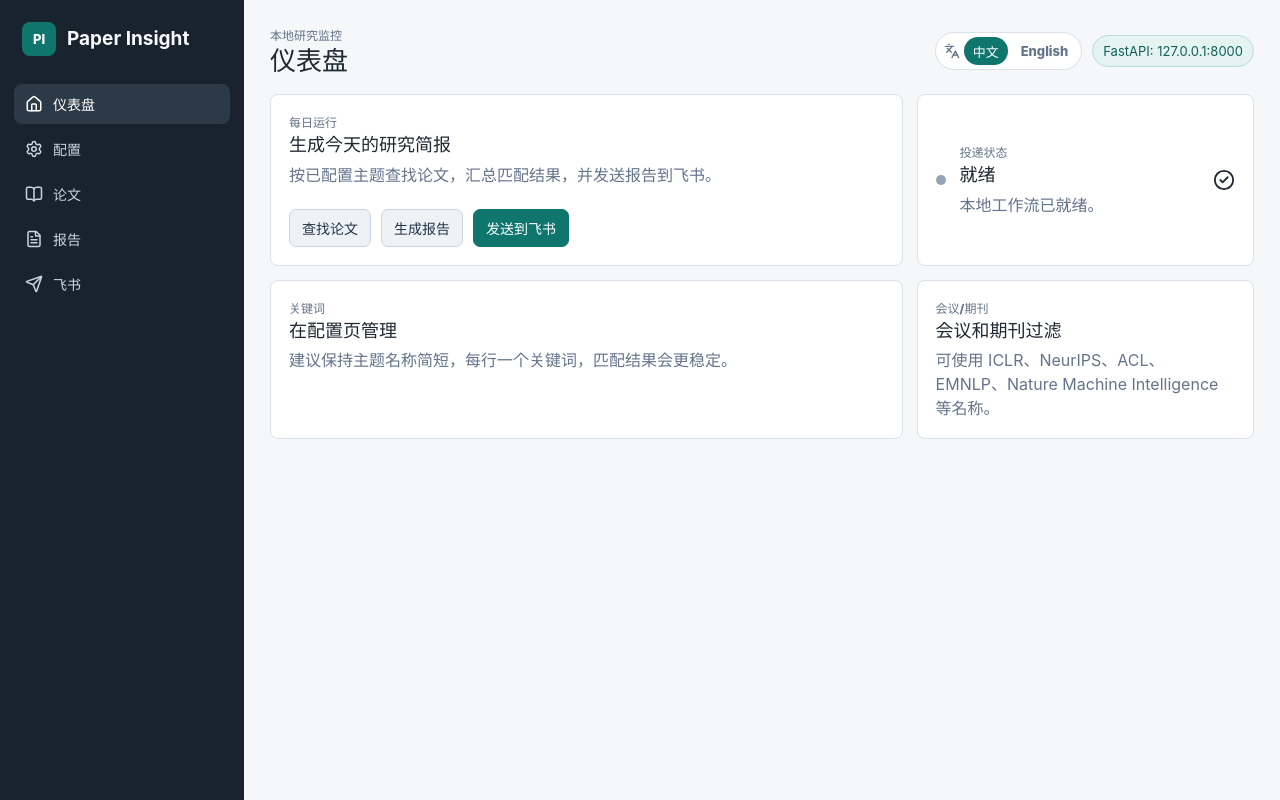
shows the number of papers found after search
Click the button "查找论文" at point(330, 228), box [289,209,371,247]
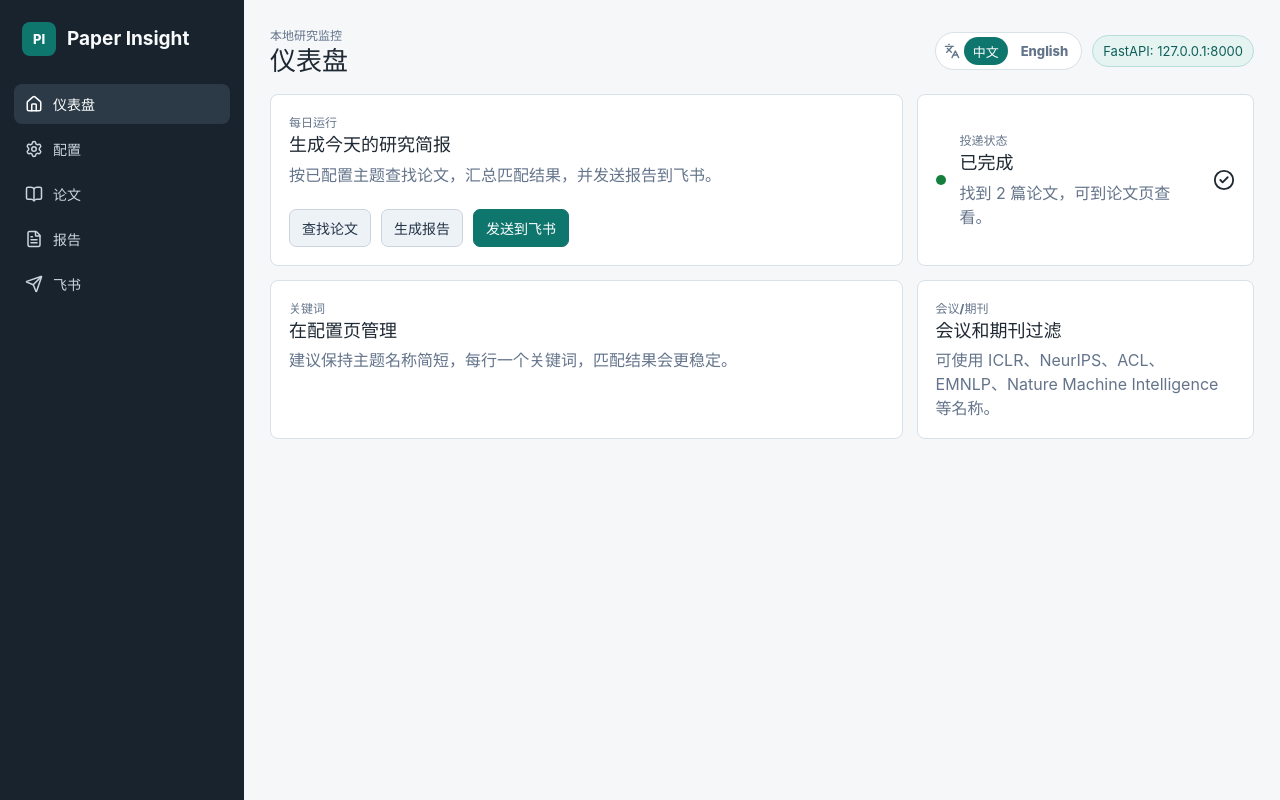
Expected: the text "找到 2 篇论文，可到论文页查看。" is shown, [960,181,1199,229]
